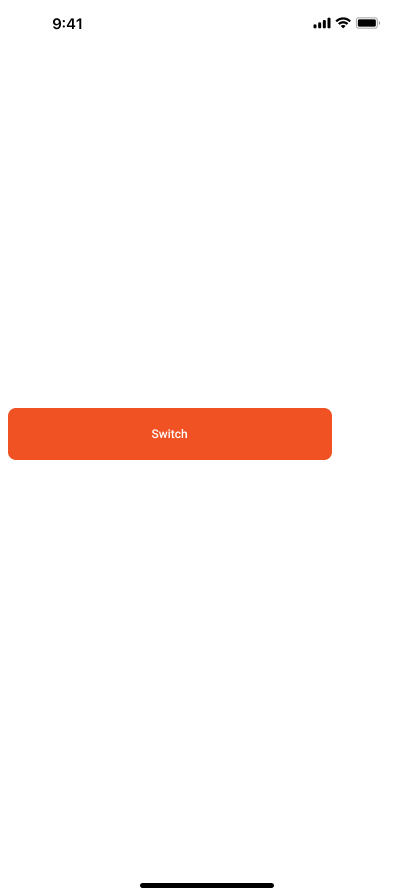Buttons: (8, 408, 332, 460)
Home Indicator: (0, 862, 414, 896)
Status Bar: (0, 0, 414, 44)
